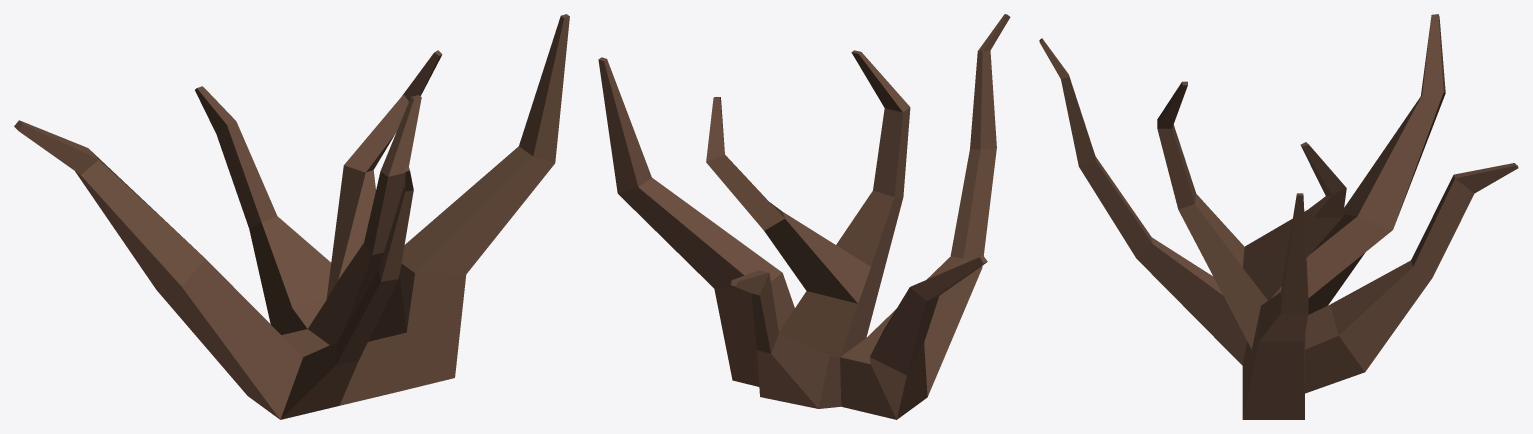
Rendered from BushAutumn3_Alt4.fbx.
3 views of the same model, side by side, from view 1: azimuth 30°, elevation 25°; view 2: azimuth 150°, elevation 25°; view 3: azimuth 270°, elevation 25° (orthographic). The views are drawn at different scales.
Visible parts, largest first — view 1: BushAutumn3_Alt4; view 2: BushAutumn3_Alt4; view 3: BushAutumn3_Alt4.
Boxes of the visible parts, bbox=[...] form: BushAutumn3_Alt4: bbox=[14, 14, 569, 419]; BushAutumn3_Alt4: bbox=[598, 14, 1010, 419]; BushAutumn3_Alt4: bbox=[1039, 14, 1518, 419].
Bounding box in the file's own units: 0.8554 × 0.5534 × 0.7745.
